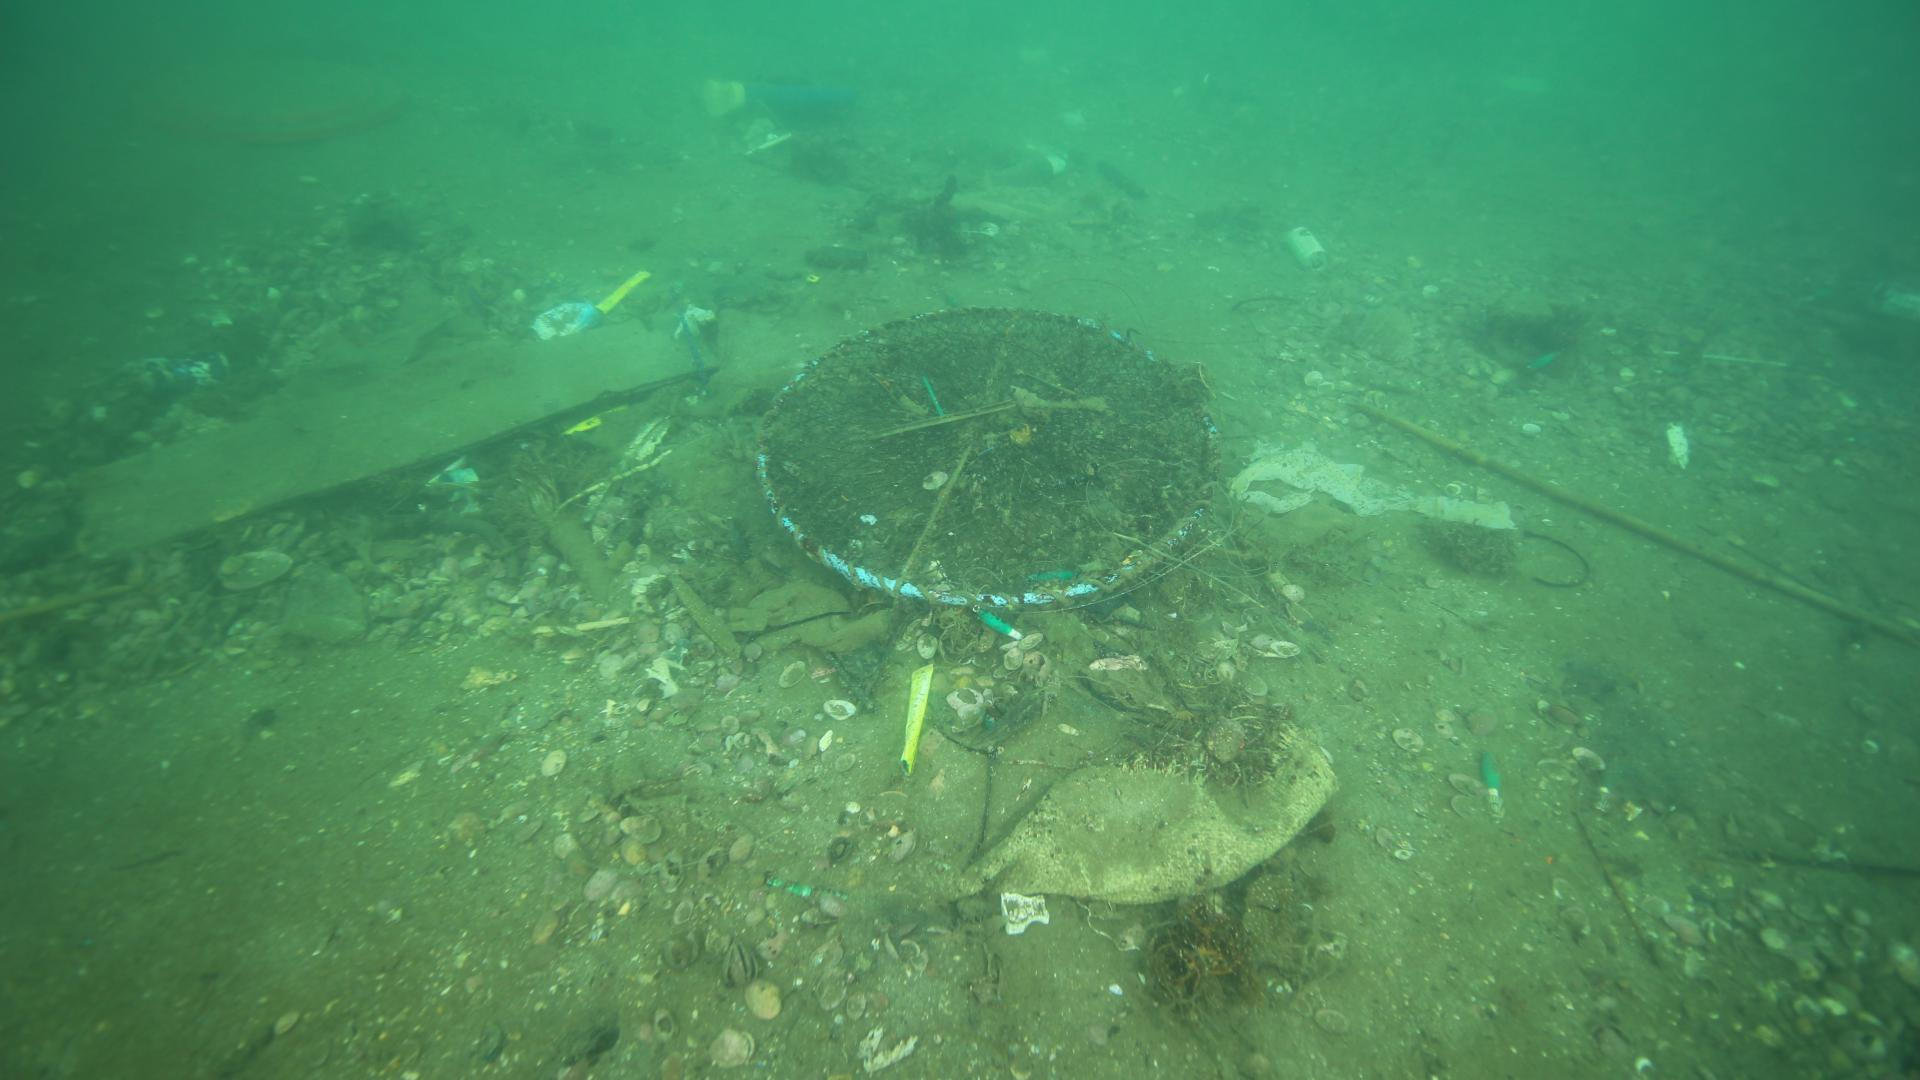circular fish trap: (752, 303, 1222, 642)
wood: (65, 301, 728, 574)
